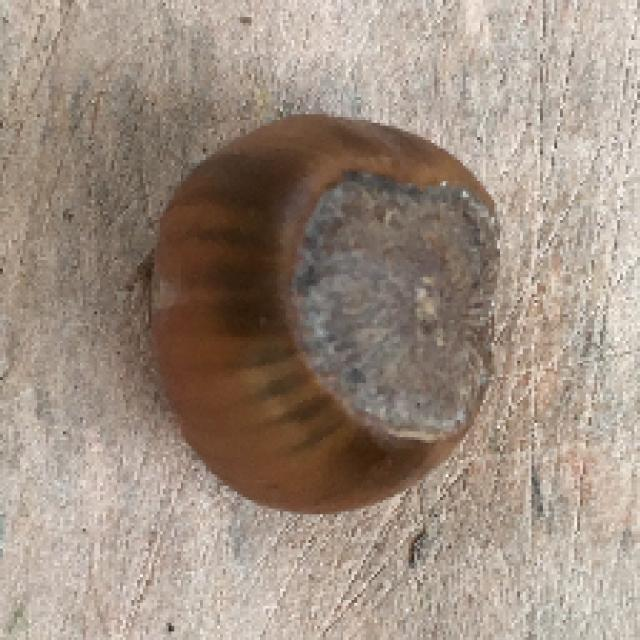damagedHazelnut: (143, 105, 498, 525)
